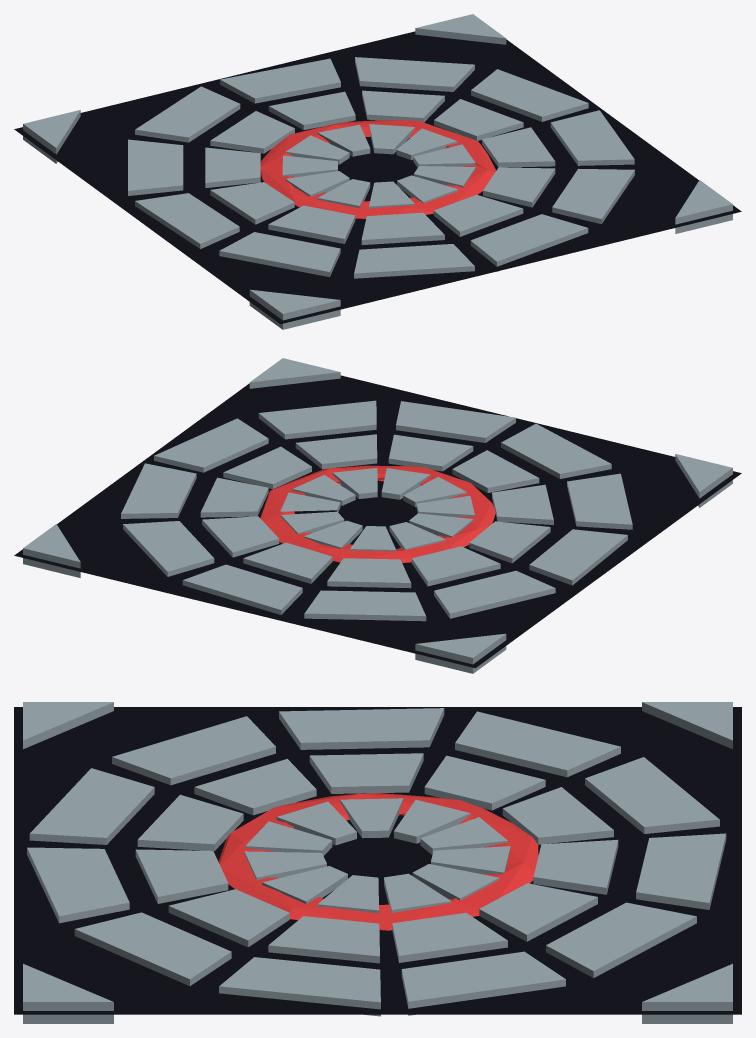
Rendered from CirclePlatform.fbx.
3 views of the same model, one above another, from view 1: azimuth 30°, elevation 25°; view 2: azimuth 150°, elevation 25°; view 3: azimuth 270°, elevation 25° (orthographic). The views are drawn at different scales.
Visible parts, largest first — view 1: PlatformCircle; view 2: PlatformCircle; view 3: PlatformCircle.
Boxes of the visible parts, left/top/right/bottom form: PlatformCircle: left=14, top=14, right=741, bottom=329; PlatformCircle: left=14, top=358, right=741, bottom=673; PlatformCircle: left=14, top=702, right=741, bottom=1023.
Size of the model in its own units: 1600 by 67.18 by 1600.
